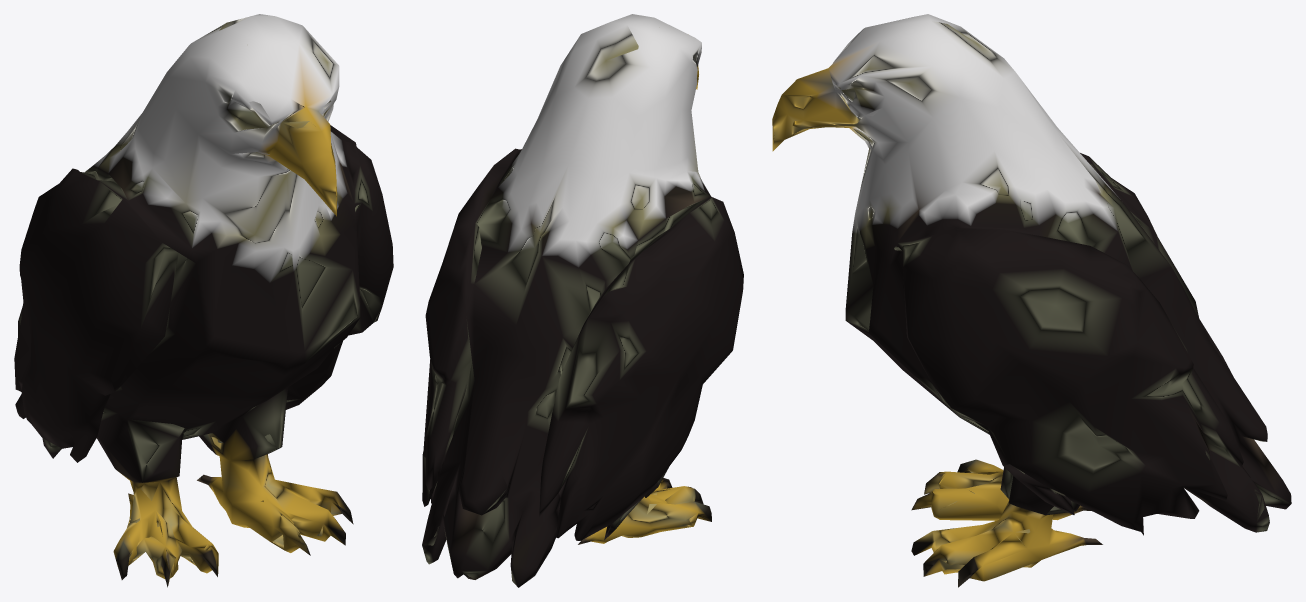
The model's file is gen3d-bald-eagle-lod0.glb.
3 views of the same model, side by side, from view 1: azimuth 30°, elevation 25°; view 2: azimuth 150°, elevation 25°; view 3: azimuth 270°, elevation 25° (orthographic). The views are drawn at different scales.
Visible parts, largest first — view 1: part_0; view 2: part_0; view 3: part_0.
Part boxes in pixels (x1,y1,x2,y2): part_0: (14, 14, 393, 587); part_0: (422, 14, 743, 587); part_0: (772, 14, 1291, 587).
Size of the model in its own units: 0.5715 by 0.999 by 0.9027.
